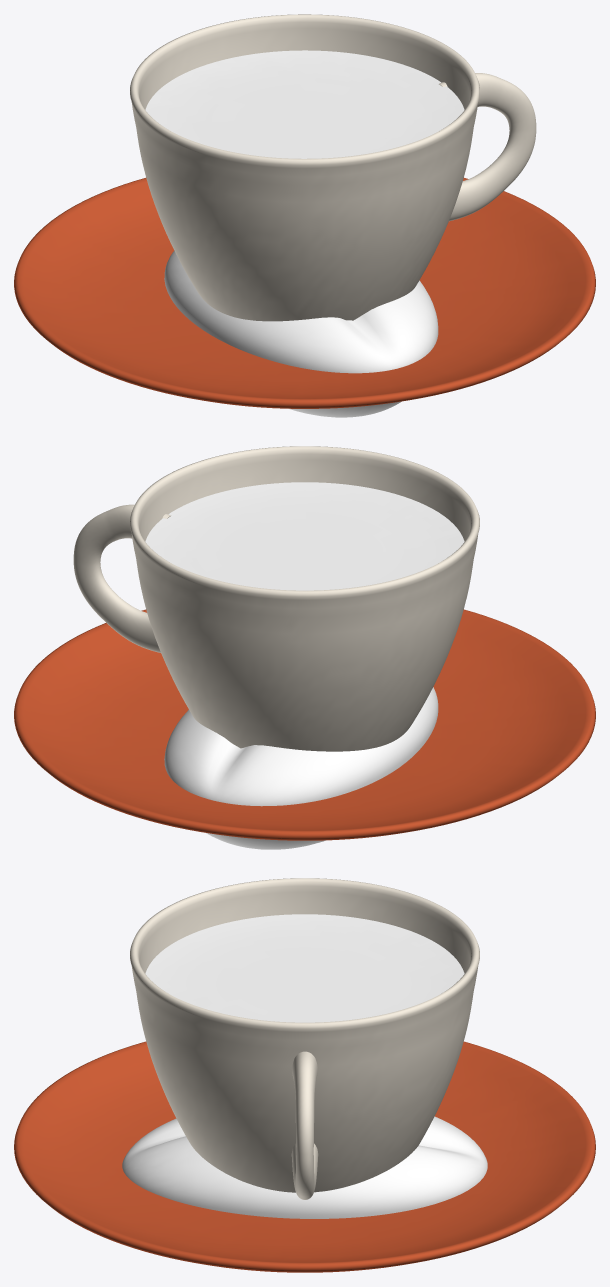
File: secawan-cup.glb
3 views of the same model, one above another, from view 1: azimuth 30°, elevation 25°; view 2: azimuth 150°, elevation 25°; view 3: azimuth 270°, elevation 25° (orthographic).
Visible parts, largest first — view 1: SaucerBody, CupBody, CoffeeSurface, BeanLo, CupHandle; view 2: CupBody, SaucerBody, CoffeeSurface, BeanLo, CupHandle; view 3: CupBody, SaucerBody, CoffeeSurface, BeanLo, CupHandle.
Boxes of the visible parts, x1,y1,x2,y2 form: SaucerBody: (14, 178, 595, 408); CupBody: (130, 14, 479, 321); CoffeeSurface: (145, 50, 464, 158); BeanLo: (164, 250, 438, 417); CupHandle: (439, 73, 536, 221); CupBody: (130, 446, 479, 751); SaucerBody: (14, 609, 595, 840); CoffeeSurface: (145, 482, 464, 590); BeanLo: (164, 687, 438, 849); CupHandle: (73, 504, 170, 652); CupBody: (130, 878, 479, 1192); SaucerBody: (14, 1041, 595, 1272); CoffeeSurface: (145, 914, 464, 1022); BeanLo: (122, 1116, 487, 1218); CupHandle: (291, 1051, 318, 1199).
Size of the model in its own units: 3.17 by 1.83 by 3.17.
